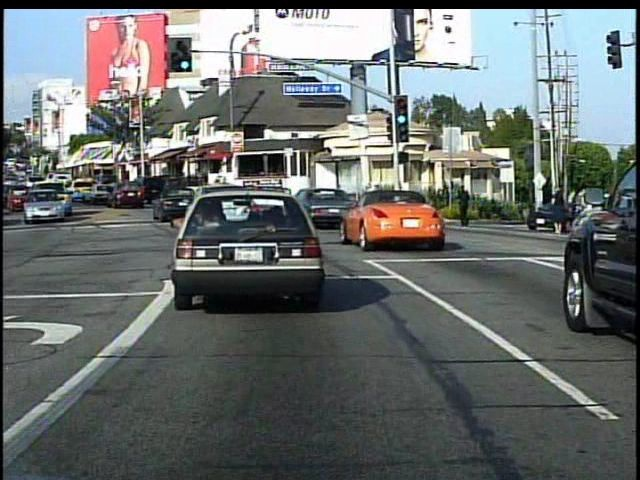person: (547, 182, 569, 237), (455, 182, 475, 230)
